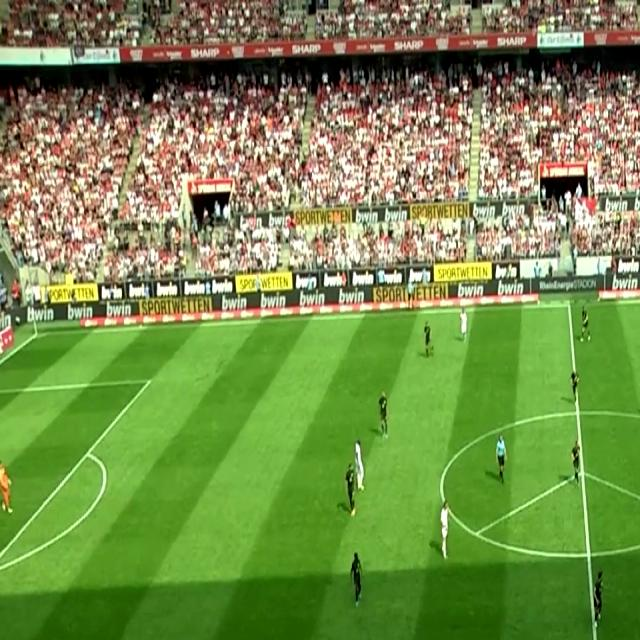referee: (0, 440, 21, 527), (493, 430, 509, 491)
soccer-player: (368, 387, 394, 447), (346, 544, 368, 614), (589, 562, 610, 628), (562, 438, 585, 497), (436, 493, 452, 564), (341, 459, 358, 520), (418, 311, 436, 366), (351, 432, 366, 496), (453, 300, 471, 343), (568, 363, 584, 411), (579, 300, 594, 350)
